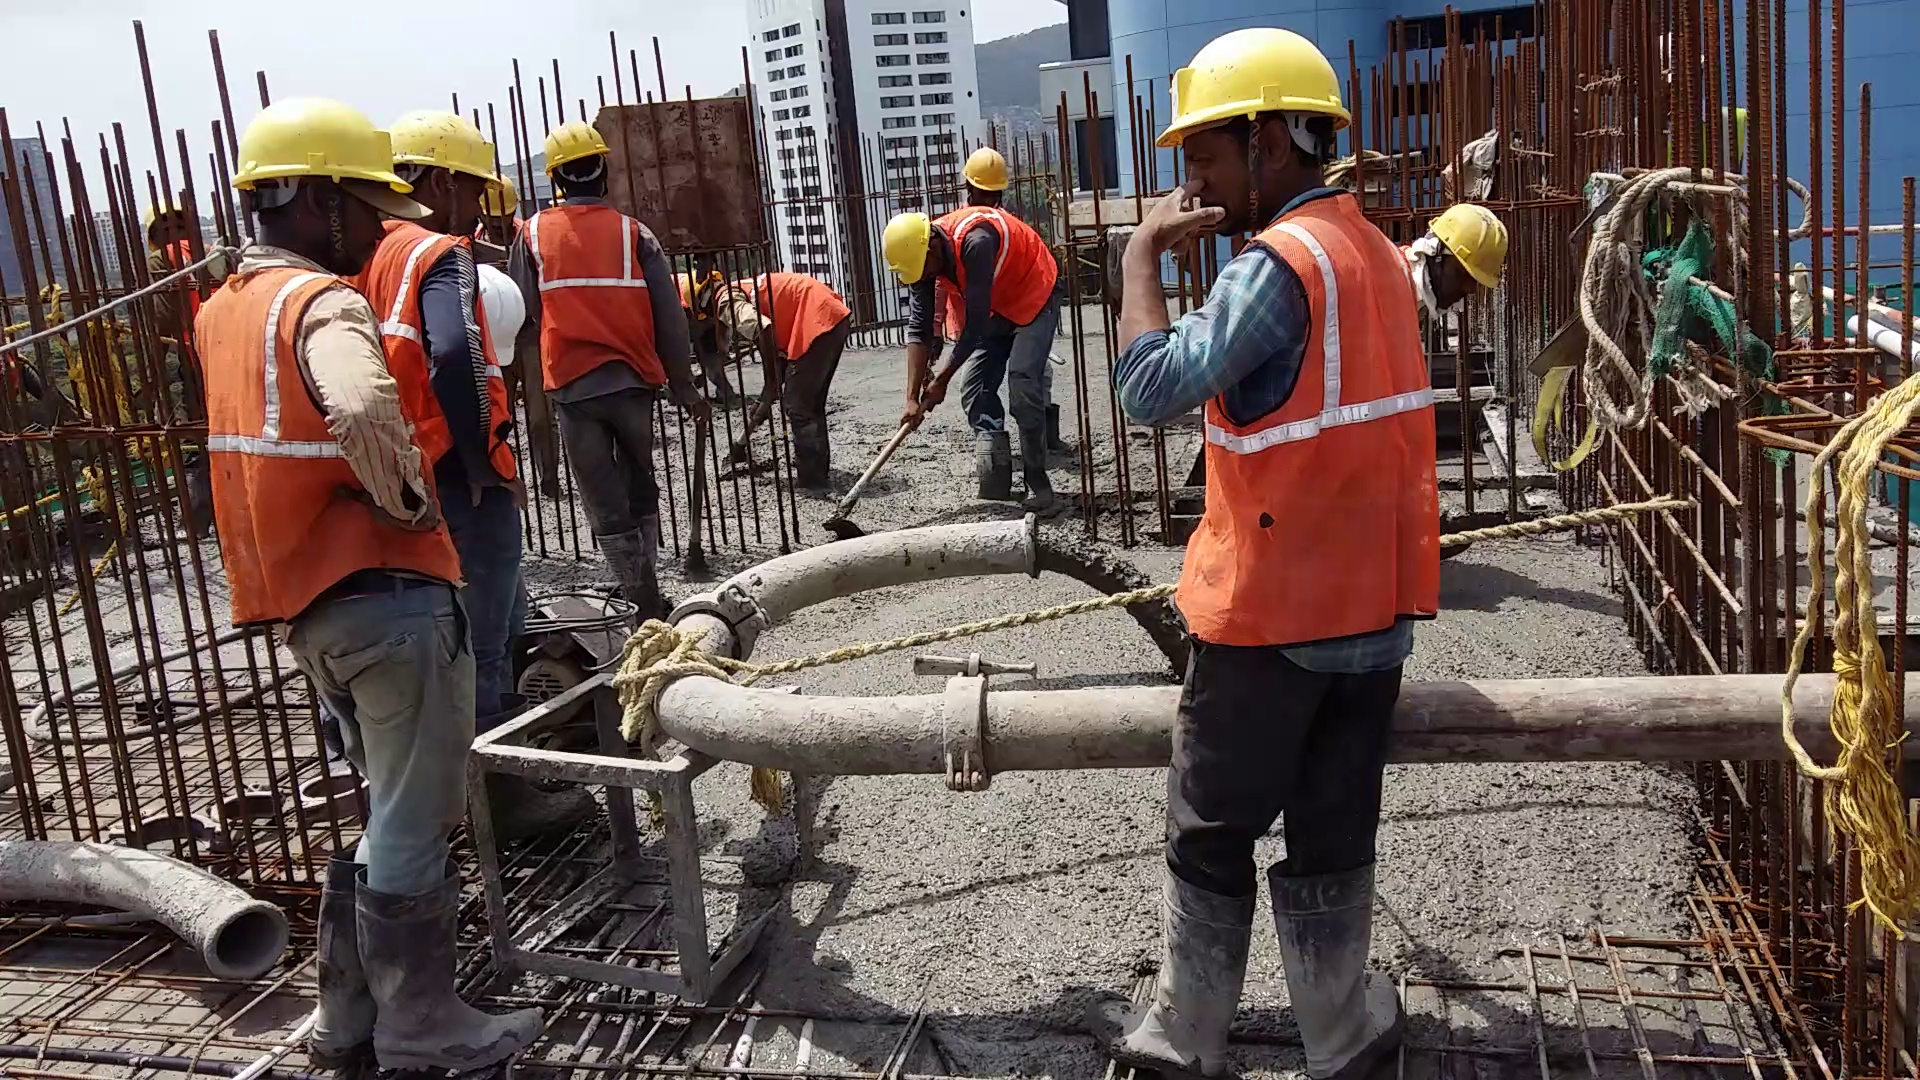SAFE: (1178, 28, 1416, 649), (200, 100, 396, 605), (524, 112, 658, 396), (398, 116, 505, 469), (877, 212, 1072, 319)
